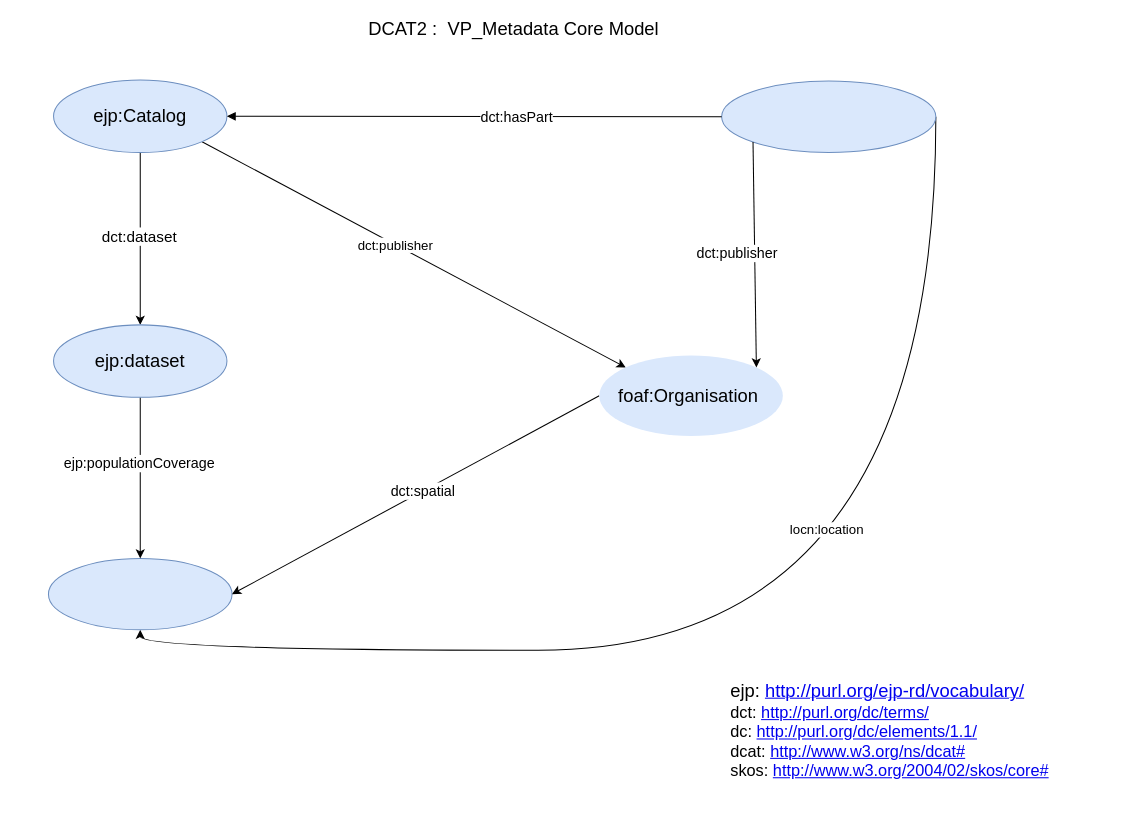
Some shapes in this 1121 by 836 pixel diagram are drawn without their labels. Each missing label, with the box of its shape:
dcat:Resources: (721, 80, 936, 152)
ejp:Location: (47, 557, 232, 630)
